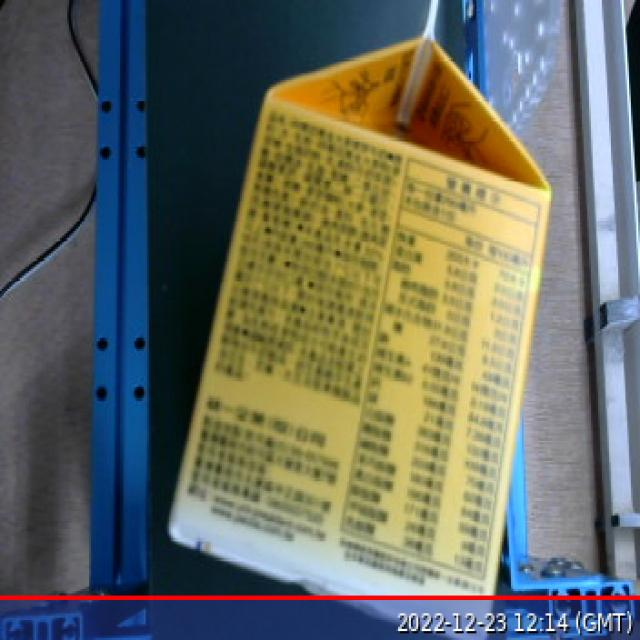non_white_jug: (145, 0, 573, 640)
